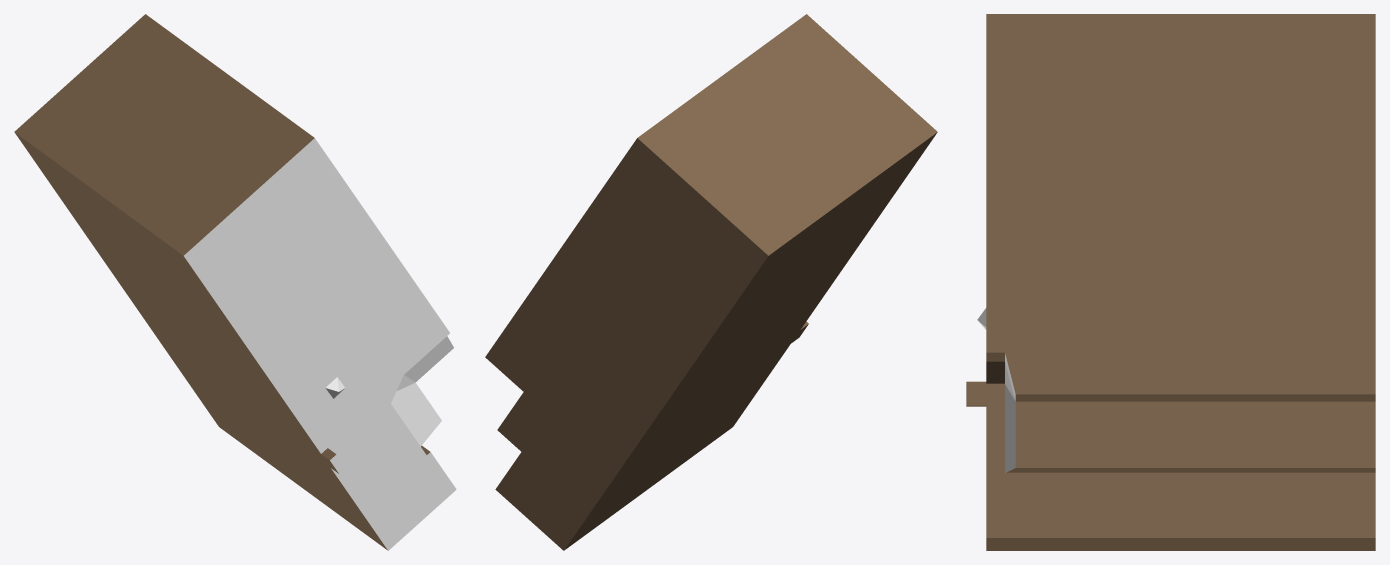
3 views of the same model, side by side, from view 1: azimuth 30°, elevation 25°; view 2: azimuth 150°, elevation 25°; view 3: azimuth 270°, elevation 25° (orthographic). The views are drawn at different scales.
Parts seen in each view (by area): view 1: City_1885331; view 2: City_1885331; view 3: City_1885331.
Part boxes in pixels (left/top/right/bottom): City_1885331: left=14, top=14, right=456, bottom=550; City_1885331: left=485, top=14, right=937, bottom=550; City_1885331: left=966, top=14, right=1375, bottom=550.
Size of the model in its own units: 1368 by 1987 by 1488.
